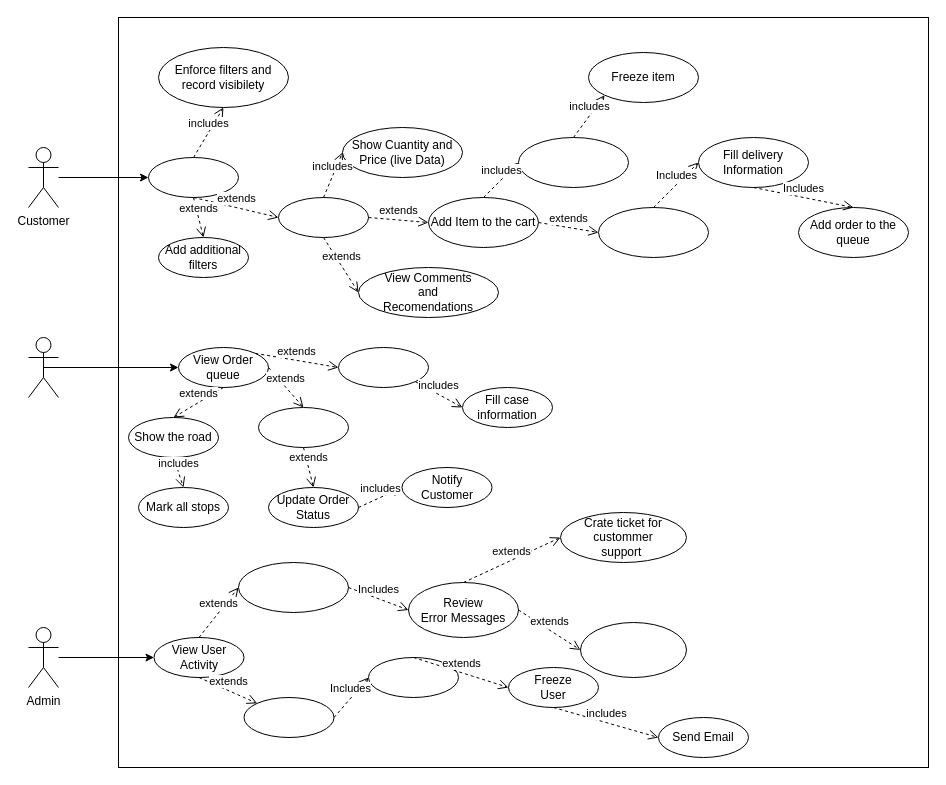
The diagram is 946 pixels wide and 785 high, and some of its shapes have lost their labels. Here are the shapes that lost their labels. From the top down, the centre of each, then its label:
the point at 193,177: Search for items
the point at 573,162: Check availability
the point at 323,217: View Item
the point at 653,232: Payment
the point at 43,367: Courier
the point at 383,367: Contact Support
the point at 303,427: Select Order
the point at 293,587: Check Process Authomation Logs
the point at 633,650: Roll back transaction
the point at 413,677: Check Logs
the point at 288,717: Select User
